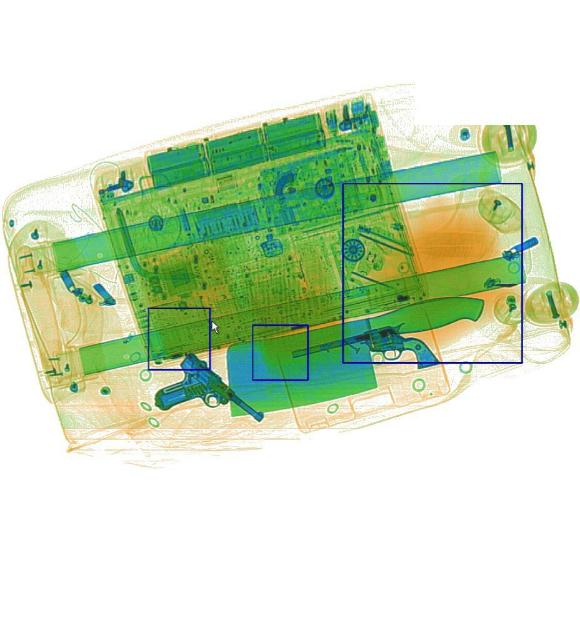Gun: (145, 348, 262, 464), (288, 314, 438, 396)
Knife: (217, 288, 496, 418)
